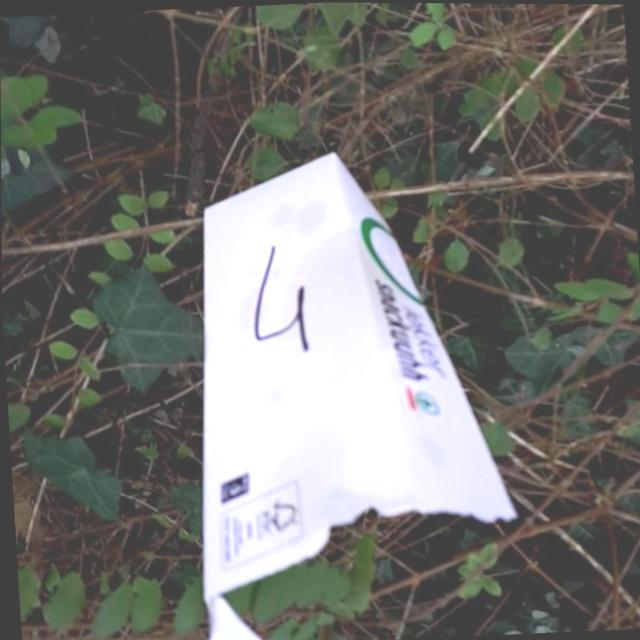Plastic: (171, 138, 526, 640)
